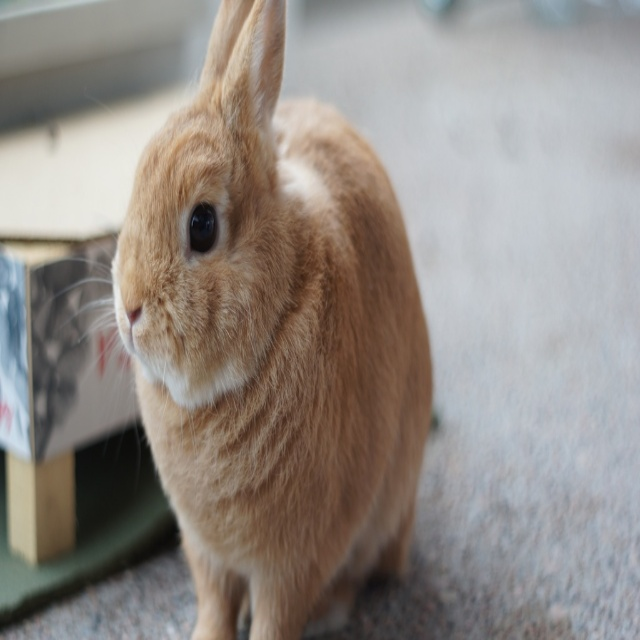Rabbit: (50, 0, 437, 639)
